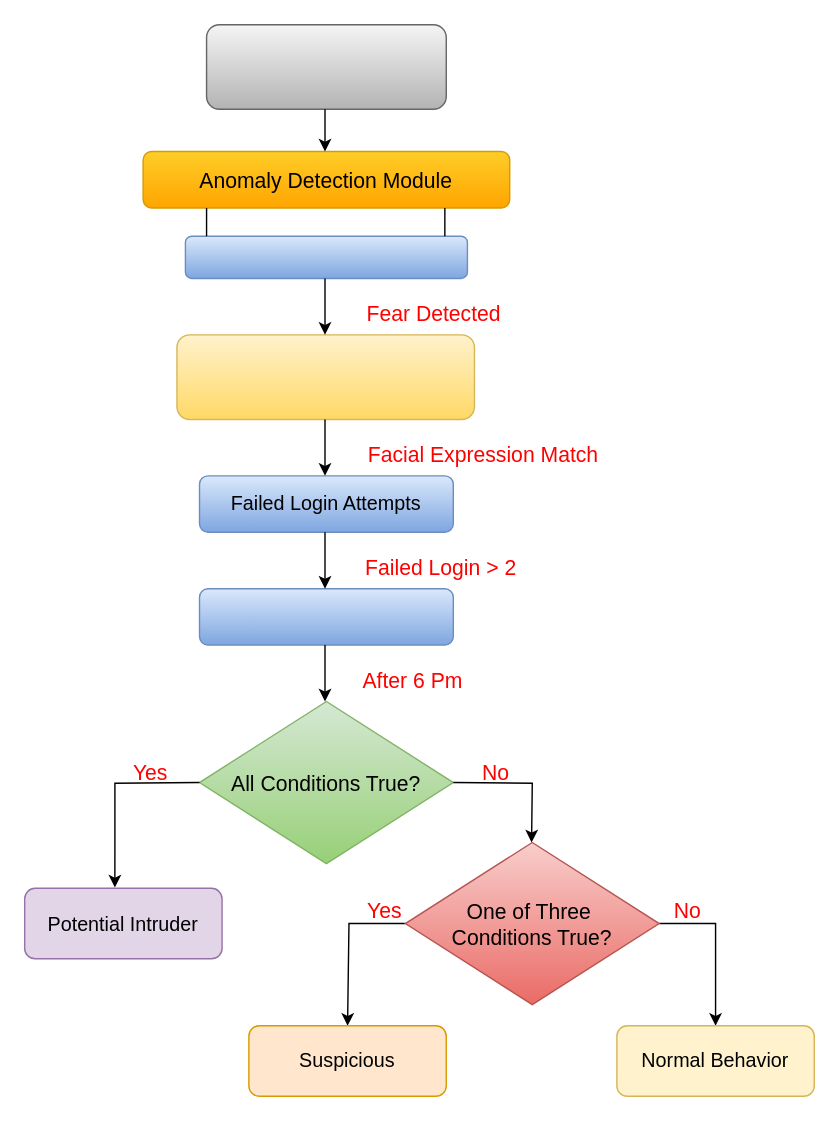
Image size: 839x1121. Some labels were removed from this diagram. The shapes that lost their labels are listed below. From the top down, each one's centre as x and y in pixels, then its label:
At pixel 325 66: "Data Input (Recognized Emotion and Confidence Score)".
At pixel 325 256: "Fear Identification".
At pixel 325 376: "Facial Expression Analysis (Deep Learning)".
At pixel 325 616: "Working Time".
